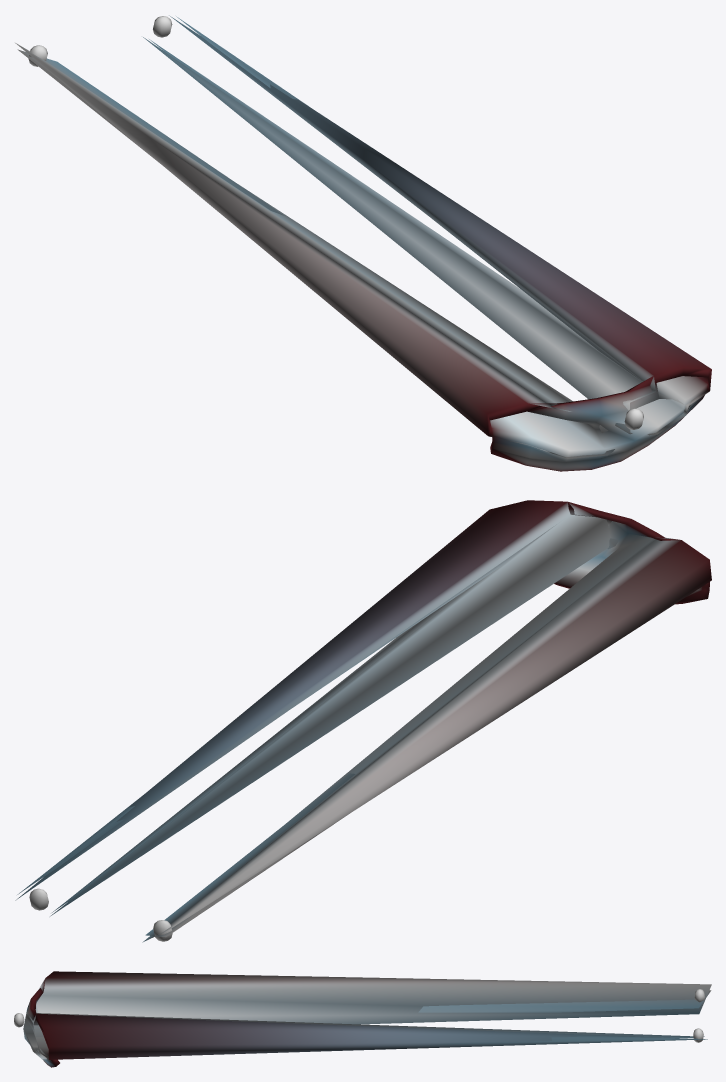
Rendered from grill_diamond_female_lo.glb.
3 renders of one model, top to bottom at view 1: azimuth 30°, elevation 25°; view 2: azimuth 150°, elevation 25°; view 3: azimuth 270°, elevation 25°, orthographic. The views are drawn at different scales.
Parts seen in each view (by area): view 1: grill_diamond_female_lo; view 2: grill_diamond_female_lo; view 3: grill_diamond_female_lo.
Part boxes in pixels (x1,y1,x2,y2): grill_diamond_female_lo: (15, 15, 711, 471); grill_diamond_female_lo: (15, 500, 711, 942); grill_diamond_female_lo: (14, 971, 711, 1067).
Bounding box in the file's own units: 0.1138 × 0.0404 × 0.4748.
